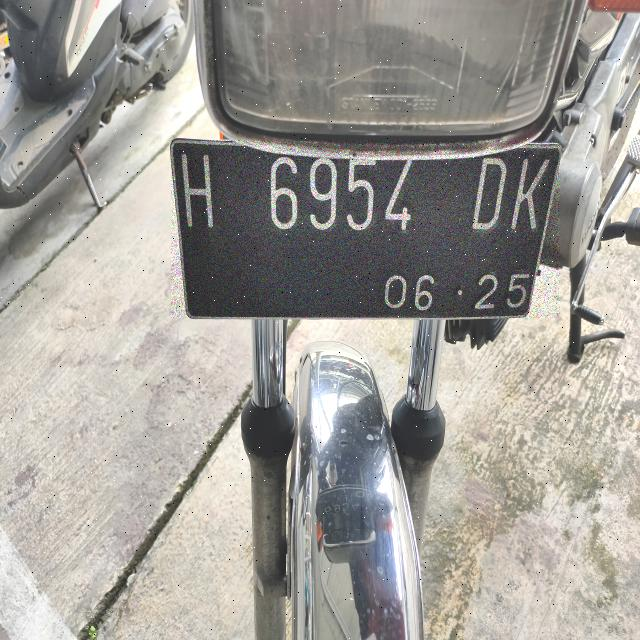plate: (172, 140, 559, 317)
